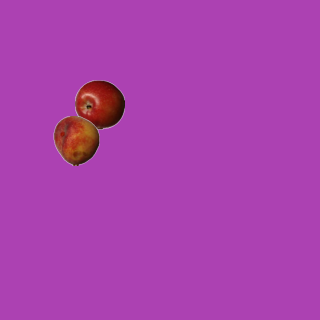Apple Braeburn: (74, 79, 124, 129)
Peach: (51, 115, 101, 165)
